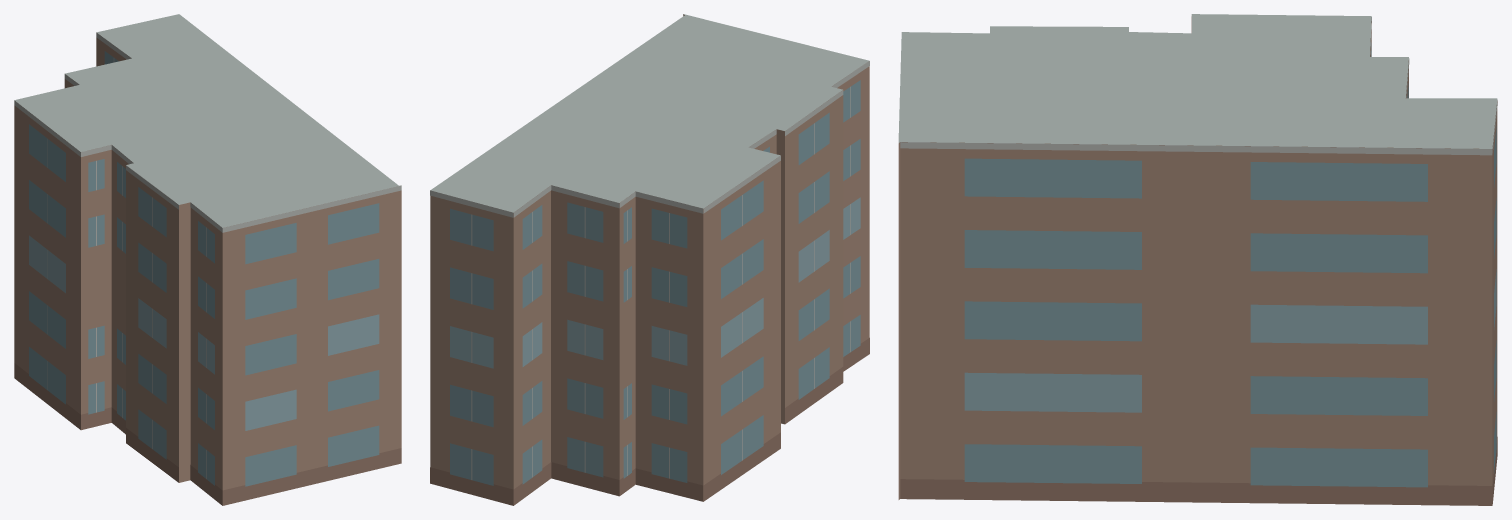
Rendered from survey-upis-32656674.glb.
3 renders of one model, left to right at view 1: azimuth 30°, elevation 25°; view 2: azimuth 150°, elevation 25°; view 3: azimuth 270°, elevation 25°, orthographic. The views are drawn at different scales.
Visible parts, largest first — view 1: survey-upis-32656674.tmp; view 2: survey-upis-32656674.tmp; view 3: survey-upis-32656674.tmp.
Part boxes in pixels (x1,y1,x2,y2): survey-upis-32656674.tmp: (14,14,401,505); survey-upis-32656674.tmp: (430,14,869,505); survey-upis-32656674.tmp: (898,14,1497,505).
Size of the model in its own units: 11.12 by 13.7 by 20.85.
